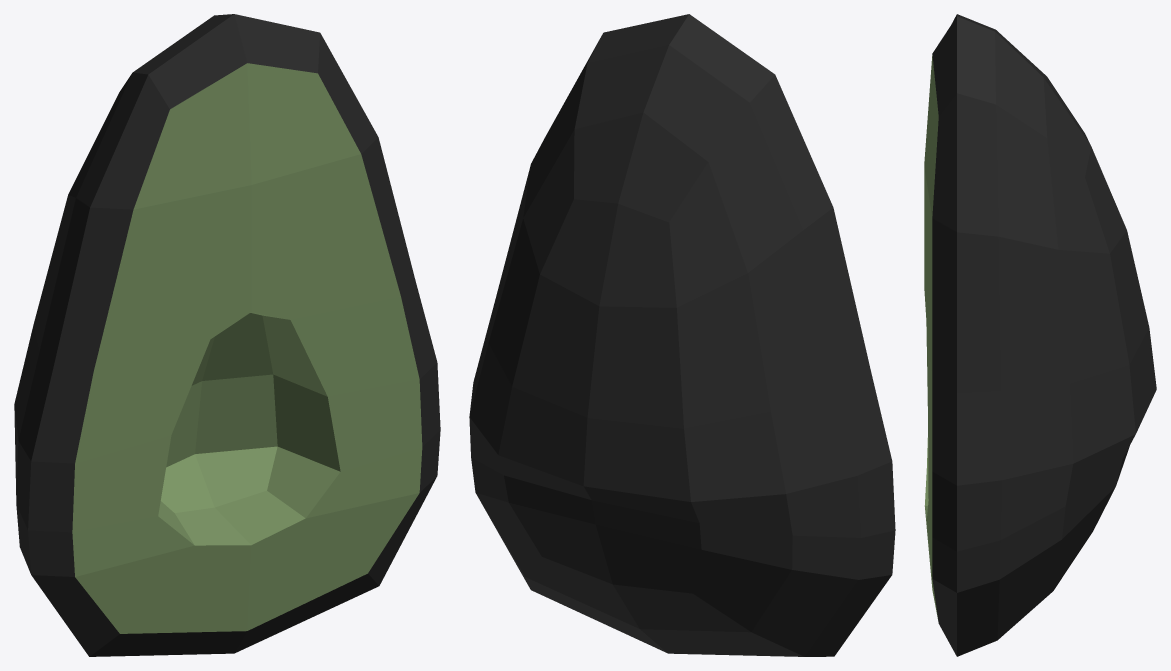
File: Avocado_Empty.glb
3 views of the same model, side by side, from view 1: azimuth 30°, elevation 25°; view 2: azimuth 150°, elevation 25°; view 3: azimuth 270°, elevation 25° (orthographic). The views are drawn at different scales.
Visible parts, largest first — view 1: Avocado_Empty; view 2: Avocado_Empty; view 3: Avocado_Empty.
Boxes of the visible parts, <box> form: Avocado_Empty: <box>14,14,440,656</box>; Avocado_Empty: <box>469,14,895,656</box>; Avocado_Empty: <box>924,14,1156,656</box>.
Size of the model in its own units: 0.1255 by 0.186 by 0.0649.
